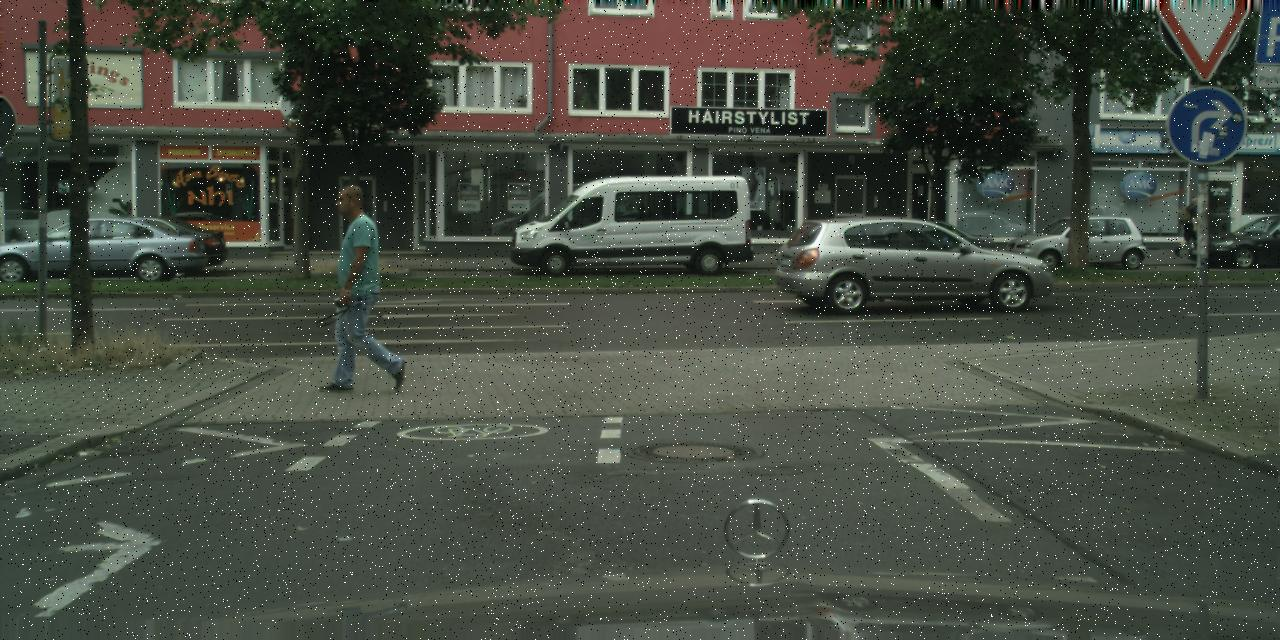ped: (319, 183, 403, 391), (1180, 196, 1204, 256)
